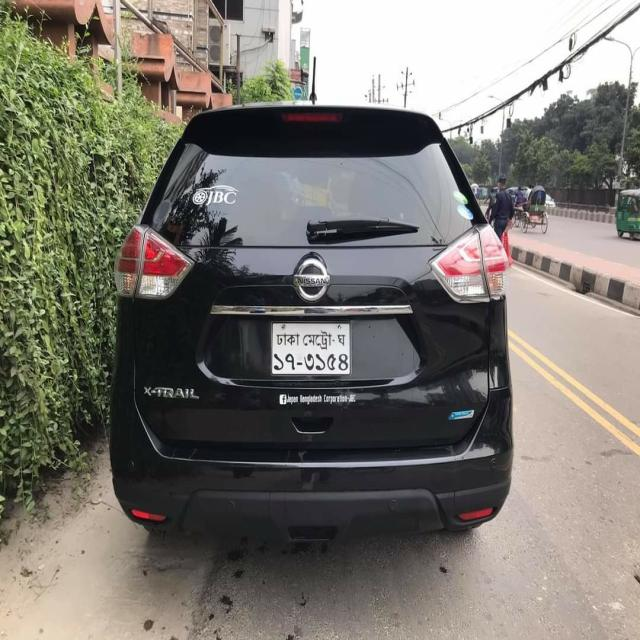black: (119, 104, 504, 539)
